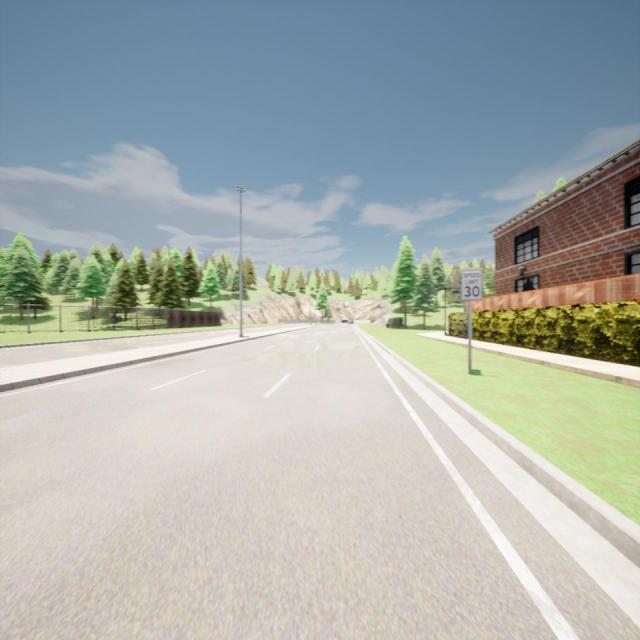Traffic_Signs: (462, 269, 482, 298)
